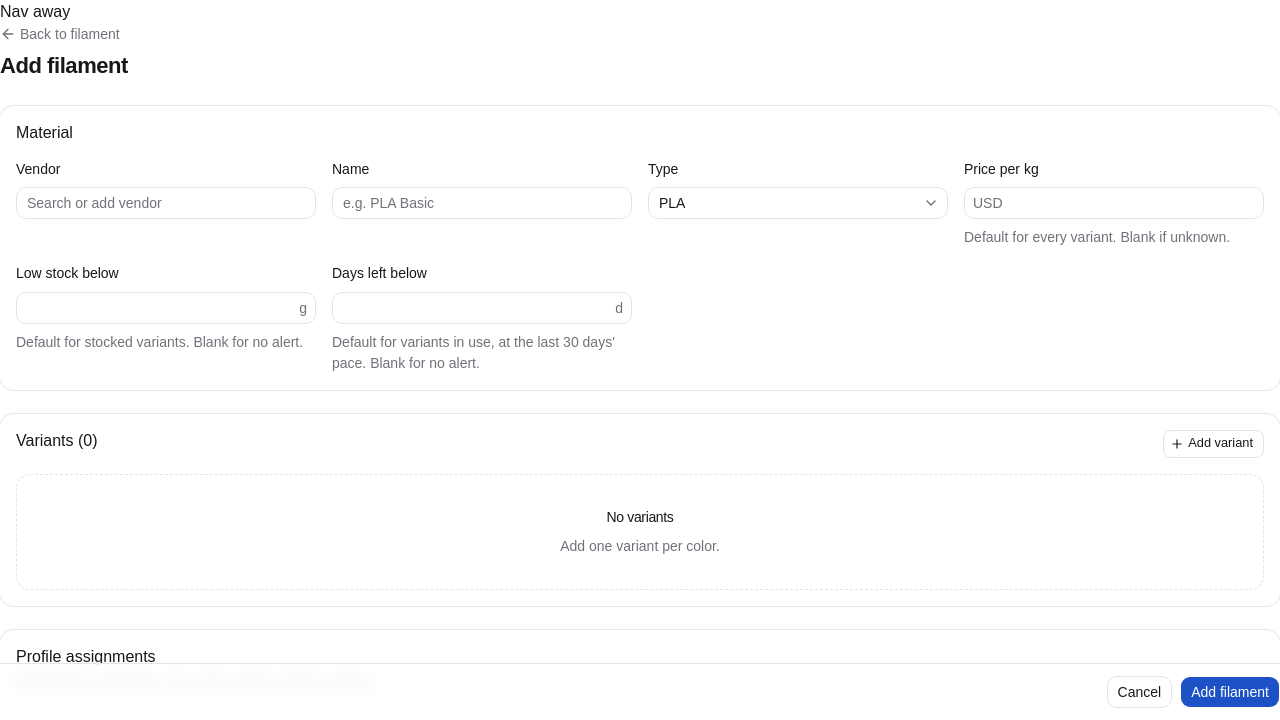
Test: FilamentFormPage › blocks in-app navigation away while the form has unsaved changes
Type "PETG" into the field labelled "Name".
click(482, 203); type("PETG")  # box [332, 187, 632, 219]
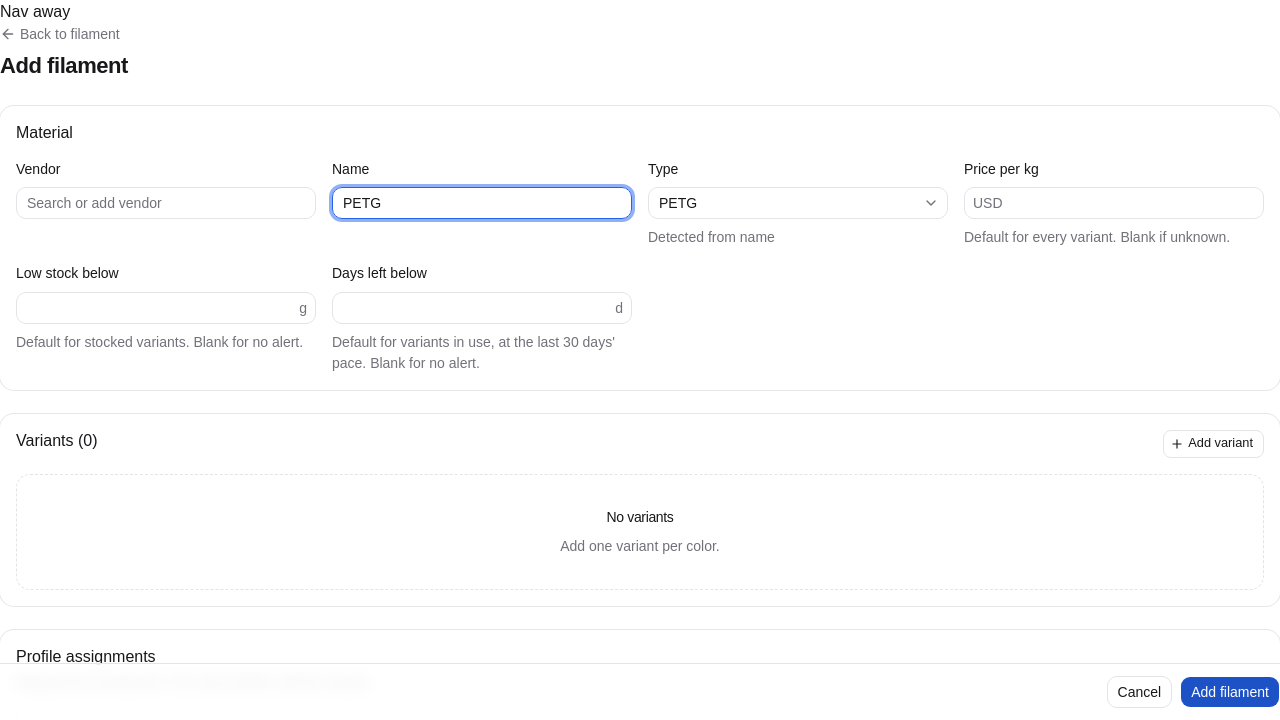
Click the link "Nav away".
click(35, 12)  # box [0, 3, 70, 20]
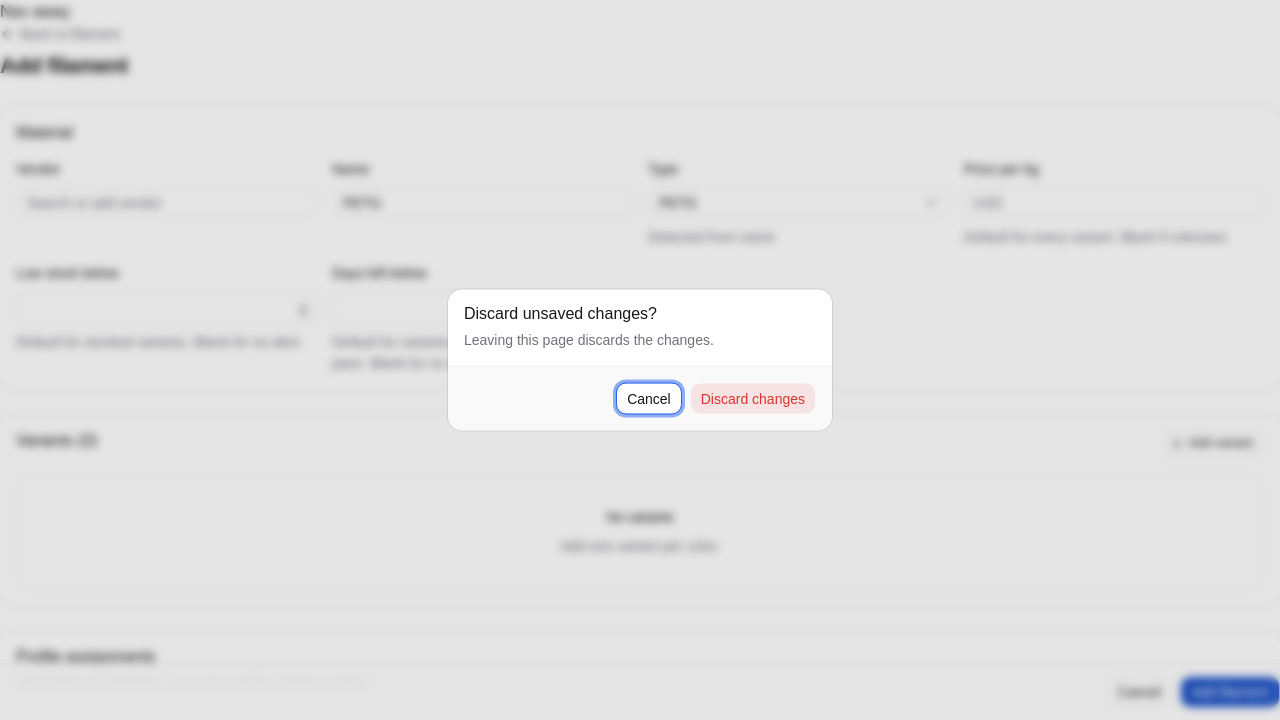
Check: the heading "Discard unsaved changes?" is shown, box [464, 304, 657, 322]
